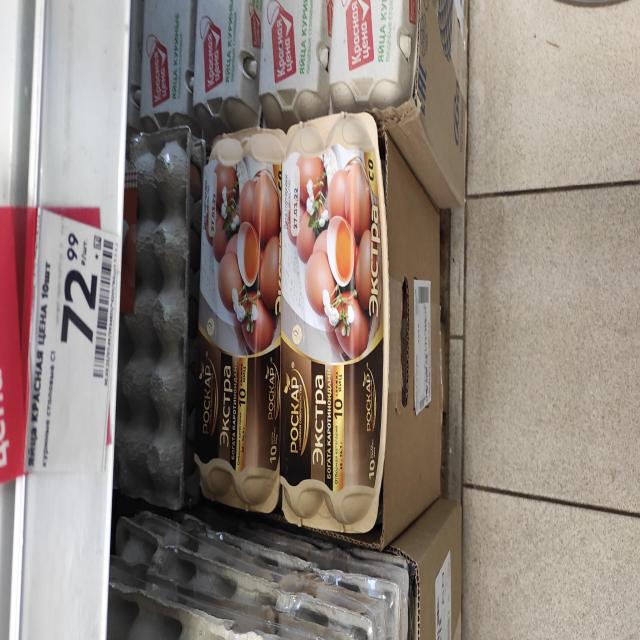organic waste: (280, 112, 382, 530), (196, 123, 280, 524), (330, 0, 414, 115), (194, 0, 260, 128), (260, 0, 326, 115), (138, 0, 194, 128)
